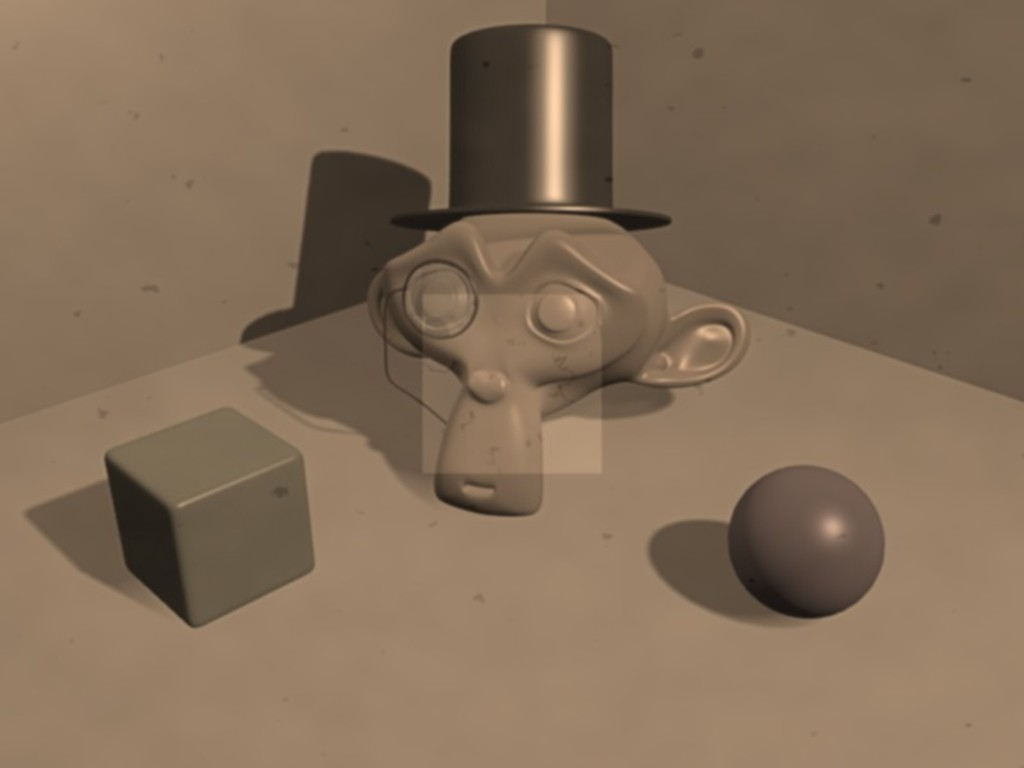Ball: (723, 463, 887, 616)
